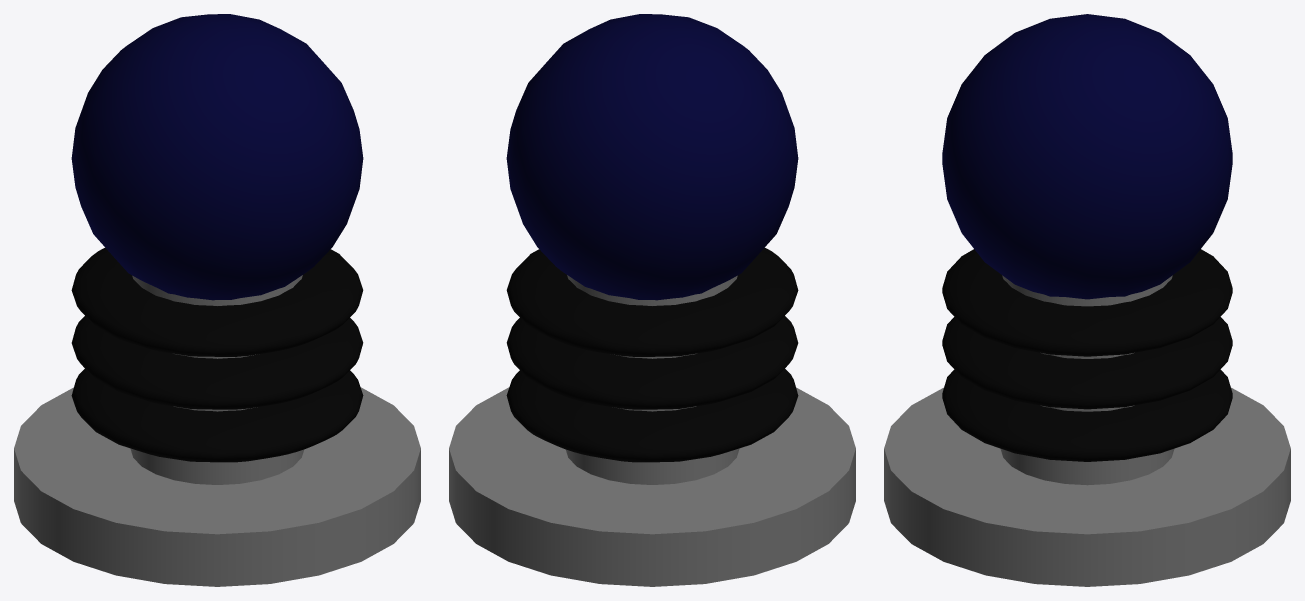
Rendered from ElectricProbe.fbx.
3 renders of one model, left to right at view 1: azimuth 30°, elevation 25°; view 2: azimuth 150°, elevation 25°; view 3: azimuth 270°, elevation 25°, orthographic.
Parts seen in each view (by area): view 1: sphere (×4), cylinder (×2); view 2: sphere (×4), cylinder (×2); view 3: sphere (×4), cylinder (×2).
Part boxes in pixels (x1,y1,x2,y2): sphere (×4): [71, 14, 363, 462]; cylinder (×2): [14, 275, 420, 586]; sphere (×4): [506, 14, 798, 462]; cylinder (×2): [449, 275, 855, 586]; sphere (×4): [942, 14, 1232, 461]; cylinder (×2): [884, 275, 1290, 586].
Size of the model in its own units: 7 by 9 by 7.
